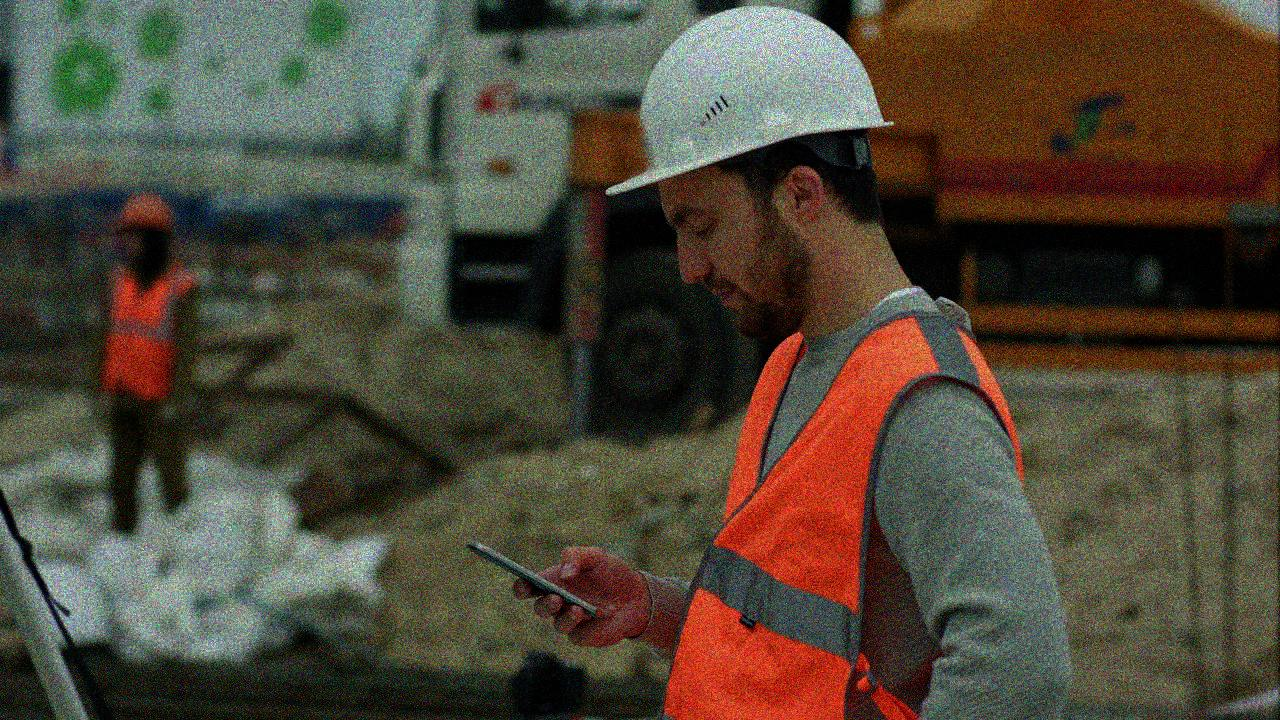helmet: (606, 4, 895, 329), (109, 190, 176, 258)
